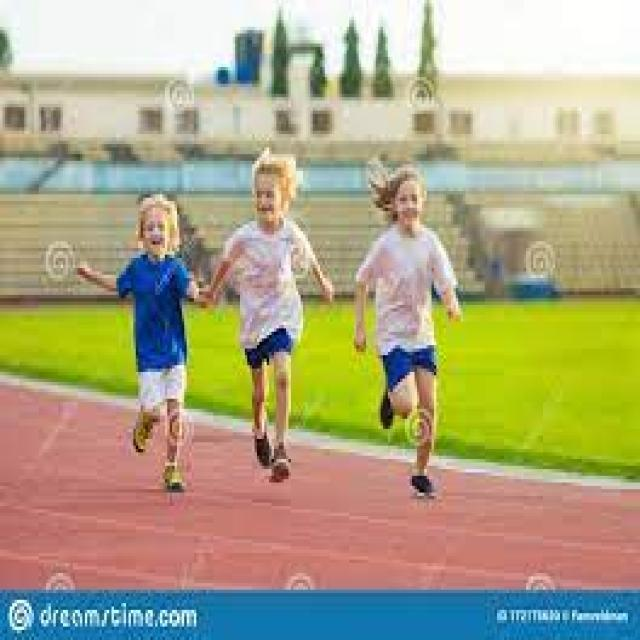Person: (209, 152, 333, 485), (80, 196, 208, 490), (355, 158, 459, 501)
